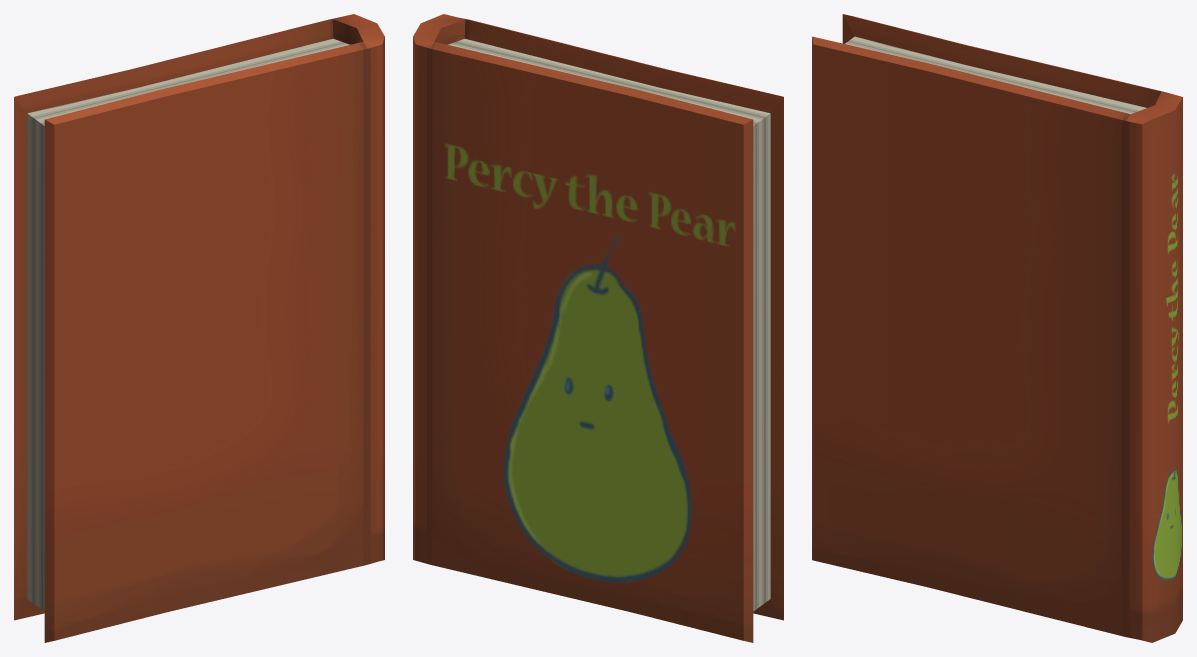
The model's file is thinstandingbook.fbx.
3 renders of one model, left to right at view 1: azimuth 30°, elevation 25°; view 2: azimuth 150°, elevation 25°; view 3: azimuth 330°, elevation 25°, orthographic.
Parts seen in each view (by area): view 1: prop_bossbook3; view 2: prop_bossbook3; view 3: prop_bossbook3.
Boxes of the visible parts, left/top/right/bottom form: prop_bossbook3: left=14, top=14, right=384, bottom=642; prop_bossbook3: left=413, top=14, right=783, bottom=642; prop_bossbook3: left=812, top=14, right=1182, bottom=642.
Bounding box in the file's own units: 120 × 173 × 23.67.
